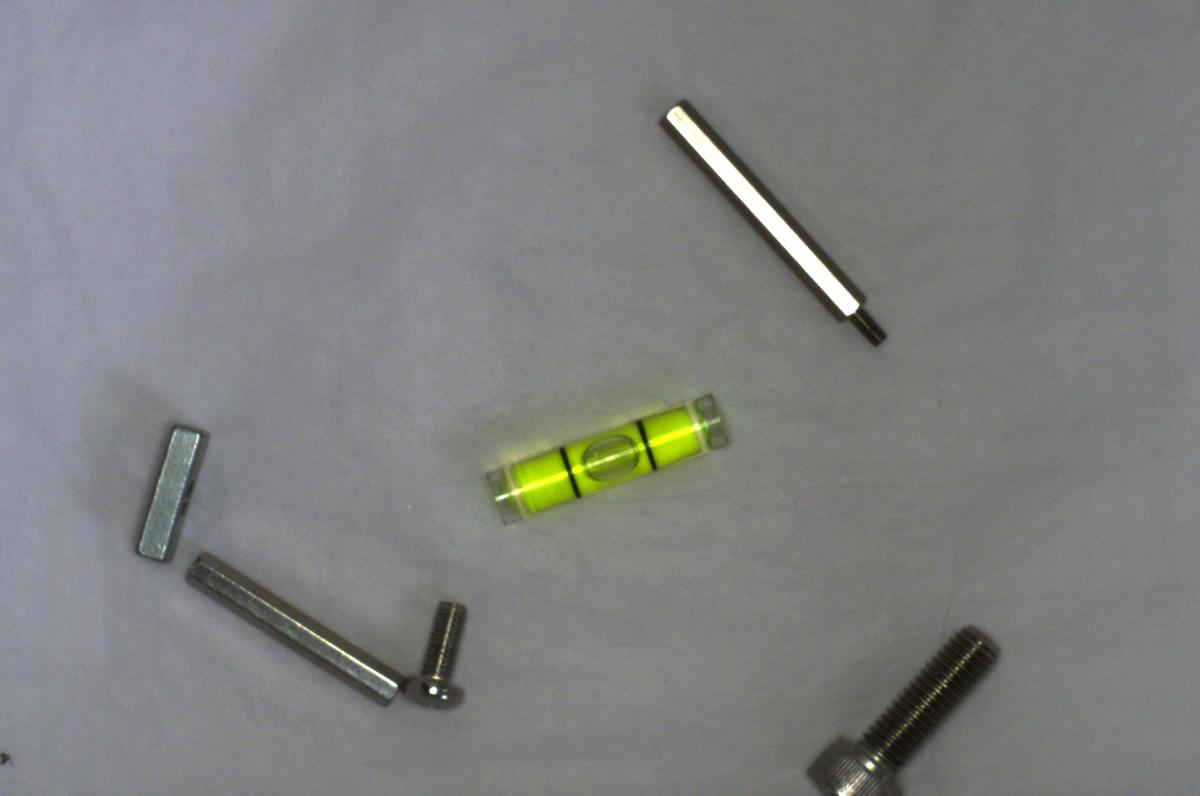Double hexagonal column: (181, 548, 402, 708)
Hexagon screw: (795, 615, 1009, 795)
Hexagonal steel column: (654, 96, 893, 355)
Horizontal bubble: (481, 390, 734, 516)
Rectangular nut: (122, 419, 208, 566)
Round head screw: (399, 594, 477, 712)
